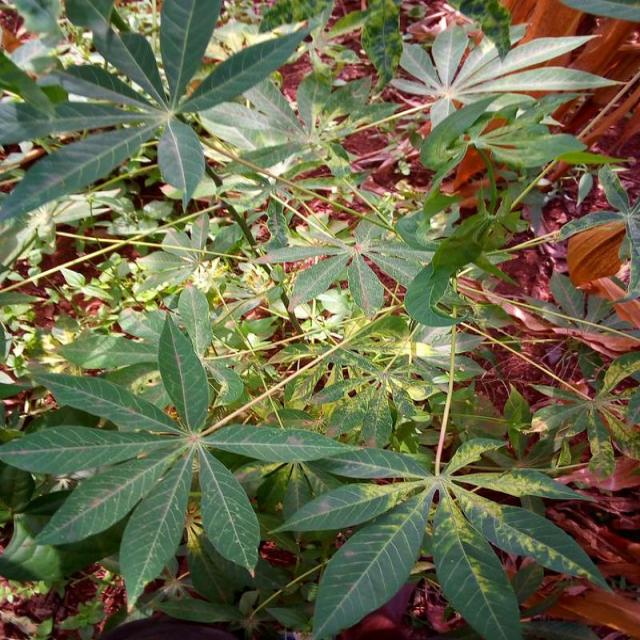Mosaico: (378, 455, 591, 612), (163, 247, 326, 389), (280, 309, 434, 443), (534, 366, 640, 465)
